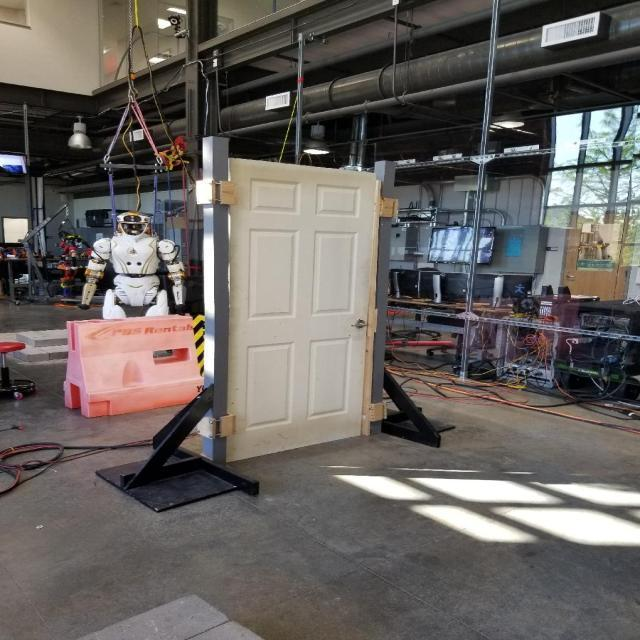door: (222, 154, 376, 466), (354, 320, 373, 332)
